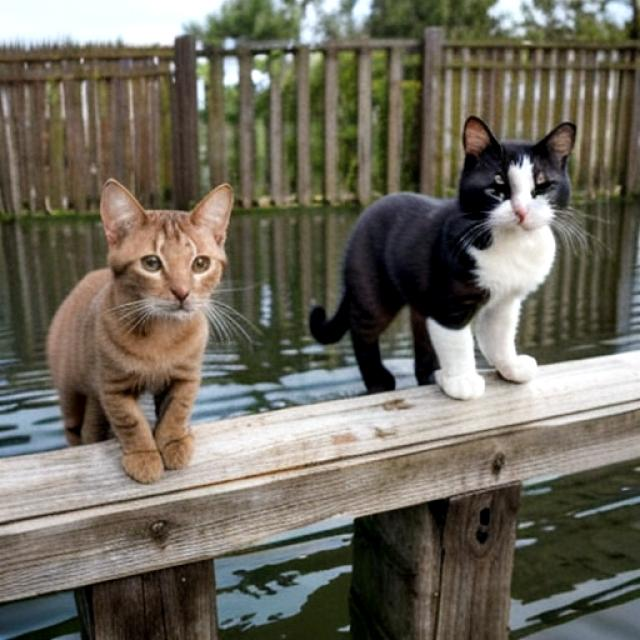cat: (283, 102, 595, 410), (43, 178, 254, 489)
